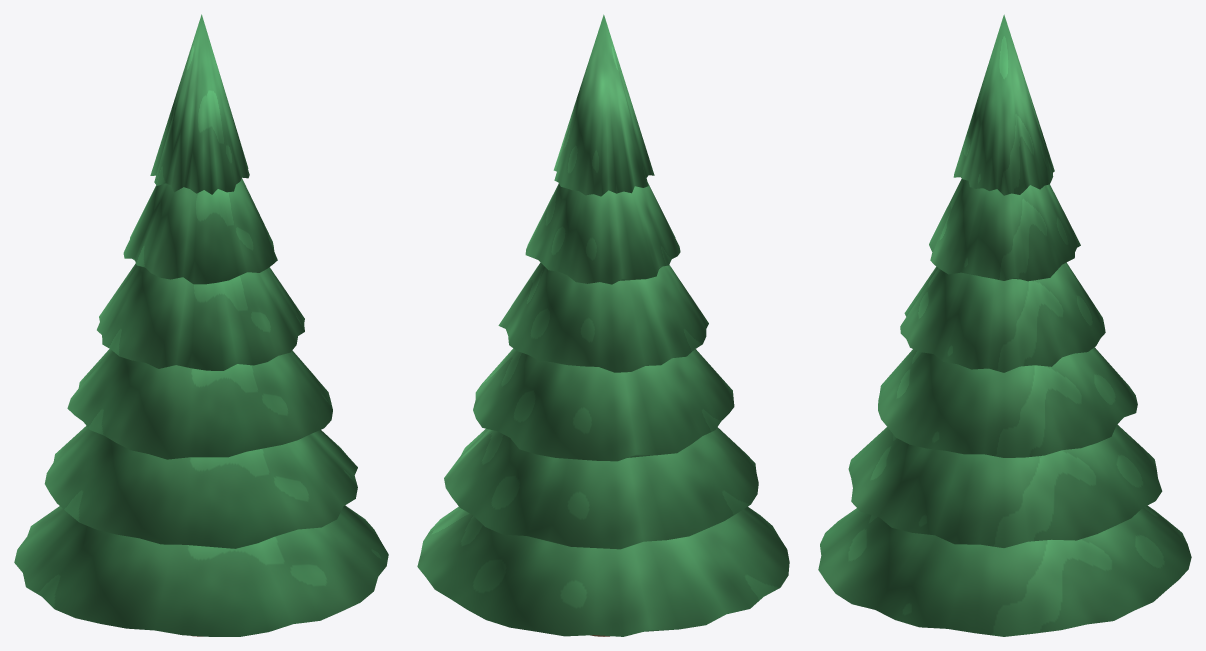
Rendered from tree_cedar.glb.
The picture shows the model from 3 angles, left to right: view 1: azimuth 30°, elevation 25°; view 2: azimuth 150°, elevation 25°; view 3: azimuth 270°, elevation 25°; orthographic projection.
Parts seen in each view (by area): view 1: tree_cedar; view 2: tree_cedar; view 3: tree_cedar.
Boxes of the visible parts, x1,y1,x2,y2 form: tree_cedar: (14,14,388,636); tree_cedar: (417,14,789,636); tree_cedar: (818,14,1191,636).
Size of the model in its own units: 2.74 by 4.9 by 2.73.
2 materials, 2 textured.
